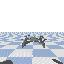drone: (20, 35, 47, 48)
